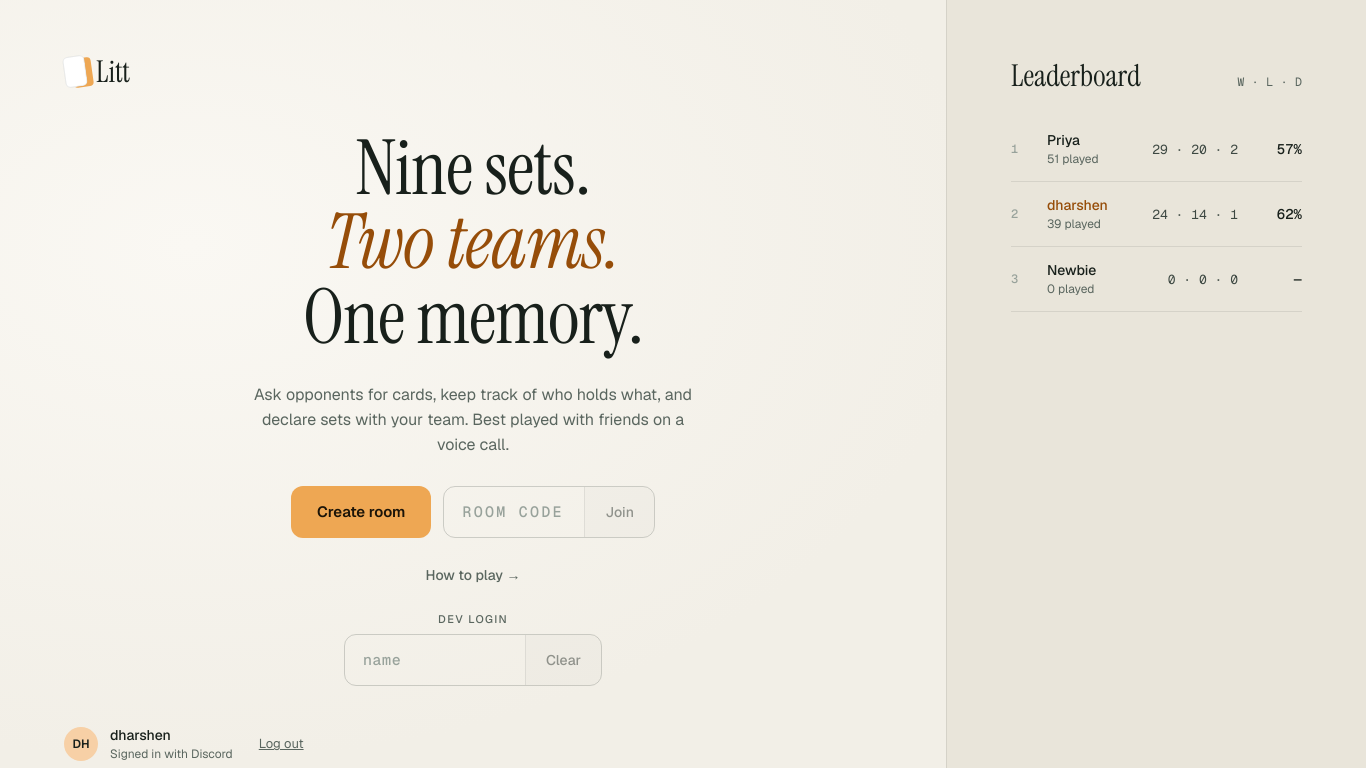
Home: logged in › logs out
Click the button "Log out".
click(281, 744)  # box [259,735,304,752]
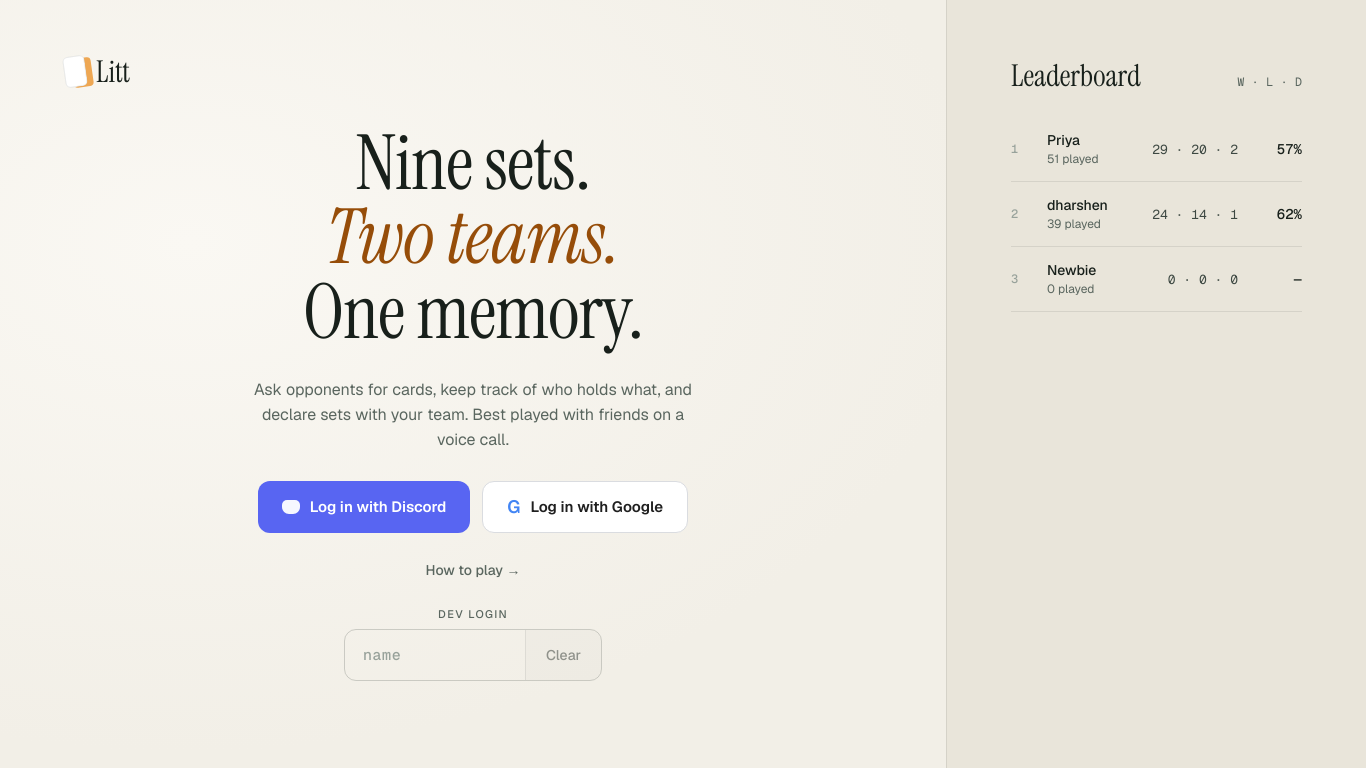
expect the link "Log in with Discord" is shown: met, box [258,481,470,533]
